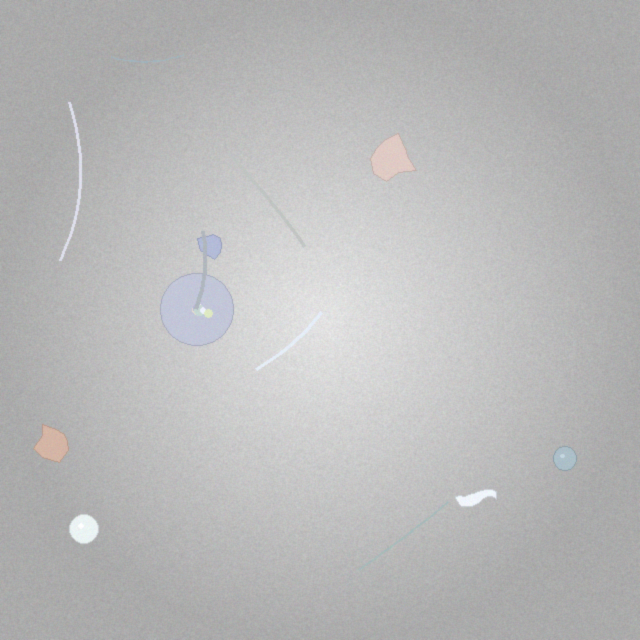fiber: (225, 149, 307, 249), (356, 500, 450, 573), (56, 99, 84, 264), (253, 310, 324, 372), (192, 227, 209, 314), (109, 53, 186, 64)
film: (456, 489, 497, 507)
foam: (161, 273, 233, 346)
fragment: (370, 134, 417, 181), (33, 425, 68, 463), (197, 234, 221, 260)
pellet: (69, 514, 98, 543), (553, 447, 577, 471)
